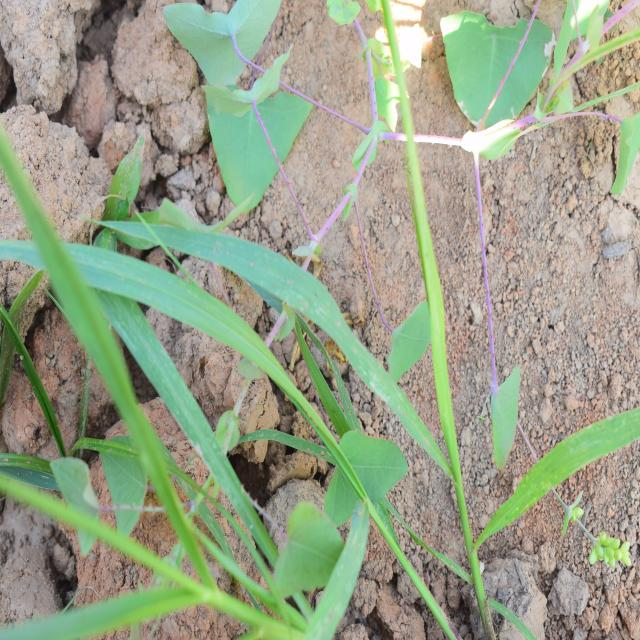green_foxtail: (28, 174, 400, 626)
